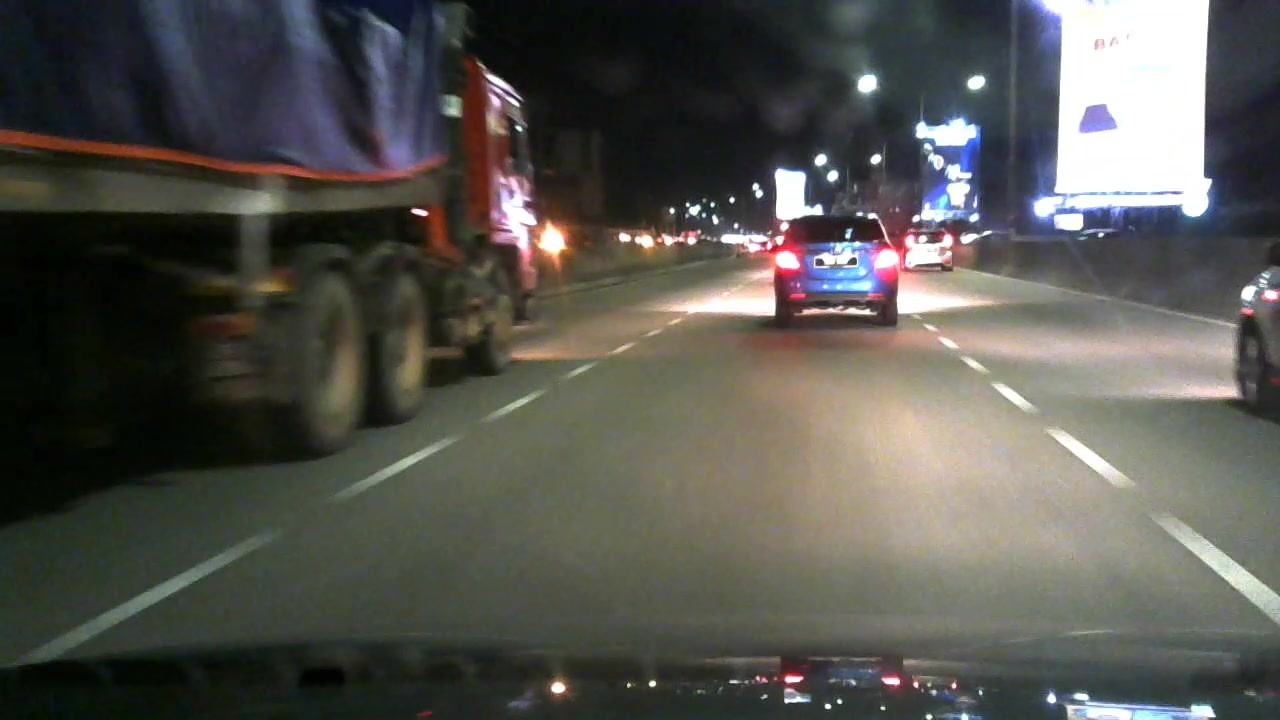Car: (759, 202, 909, 331), (1213, 233, 1280, 415), (899, 225, 962, 271)
